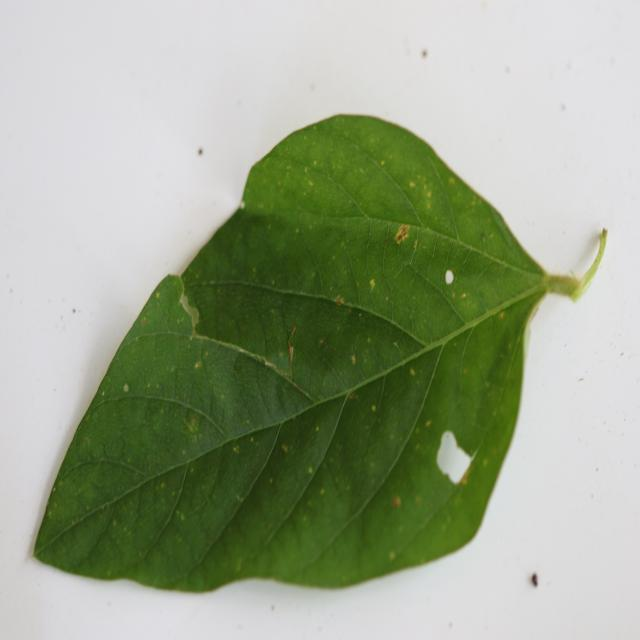Soybean: (30, 115, 605, 597)
downey_mildew: (362, 430, 472, 562), (334, 353, 430, 489), (448, 294, 525, 445), (423, 280, 546, 345), (215, 336, 307, 422), (293, 423, 363, 536), (130, 333, 208, 425), (569, 332, 640, 432), (394, 220, 465, 315), (156, 415, 198, 568), (311, 139, 377, 231), (204, 213, 296, 278), (364, 221, 488, 268), (191, 279, 294, 330), (307, 321, 362, 399), (82, 448, 164, 483), (378, 221, 392, 309), (158, 273, 186, 312), (231, 352, 243, 374), (153, 335, 158, 366), (264, 360, 275, 371), (401, 260, 414, 269), (189, 334, 194, 341)
